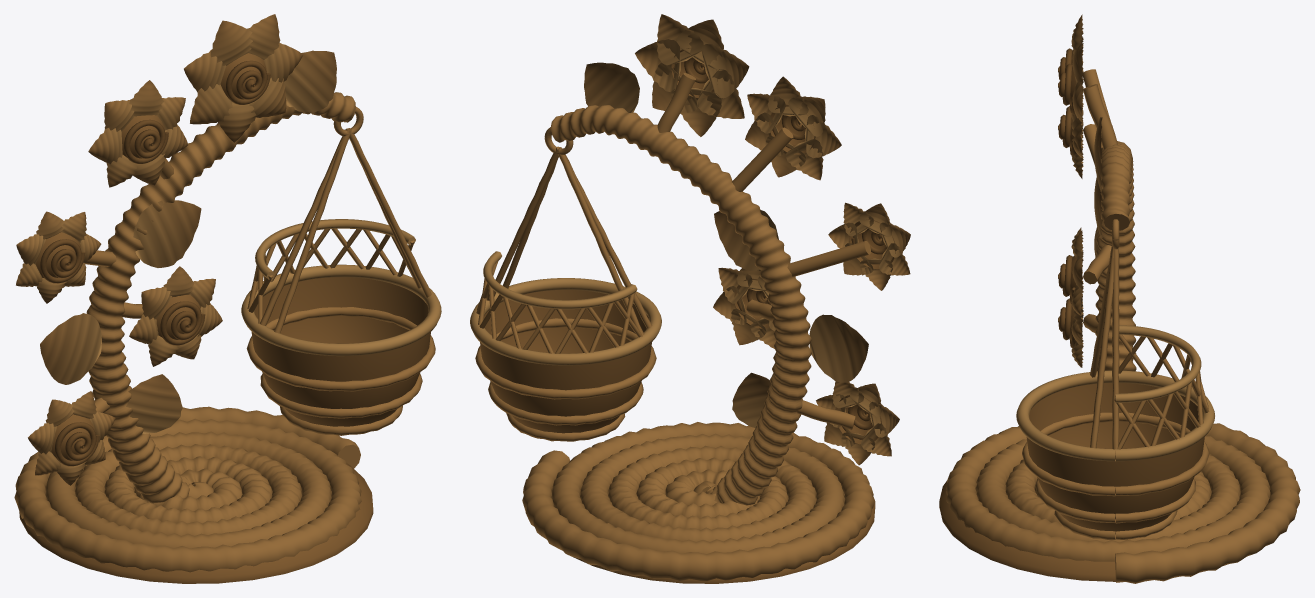
The model's file is ayunan.glb.
3 renders of one model, left to right at view 1: azimuth 30°, elevation 25°; view 2: azimuth 150°, elevation 25°; view 3: azimuth 270°, elevation 25°, orthographic. The views are drawn at different scales.
Parts seen in each view (by area): view 1: pohon_goni_ayunan; view 2: pohon_goni_ayunan; view 3: pohon_goni_ayunan.
Part boxes in pixels (x1,y1,x2,y2): pohon_goni_ayunan: (14,14,441,583); pohon_goni_ayunan: (470,14,910,583); pohon_goni_ayunan: (939,14,1300,583).
Size of the model in its own units: 0.4131 by 0.4594 by 0.3032.
